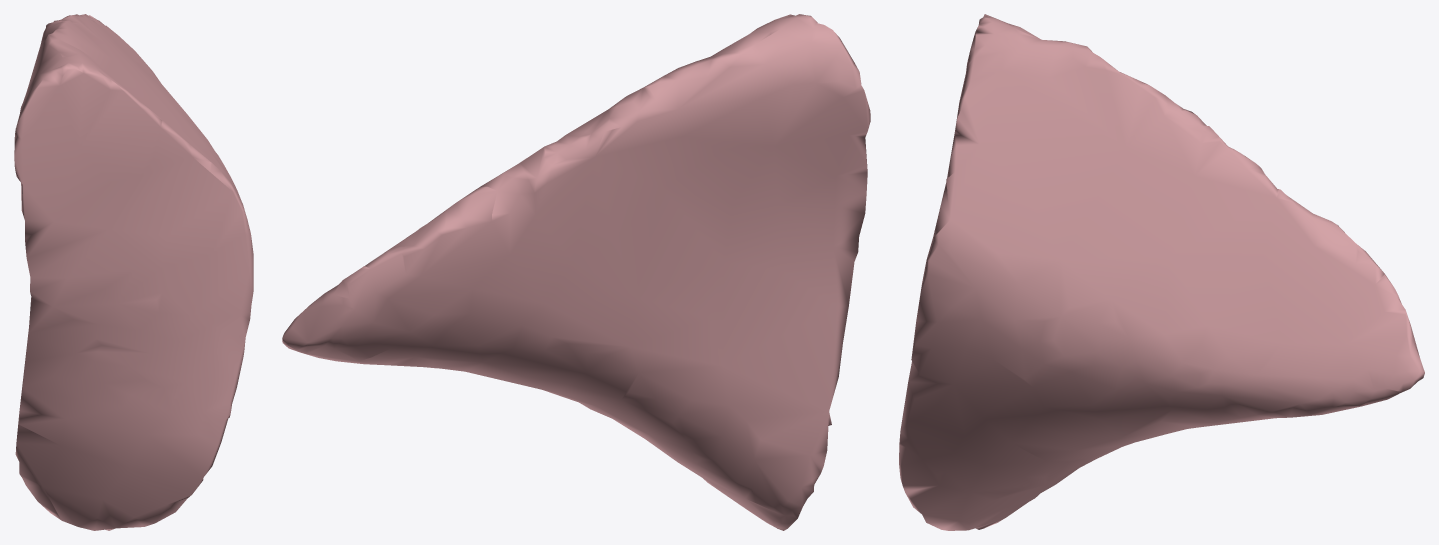
The model's file is fma75766-l_mm1020.glb.
The picture shows the model from 3 angles, left to right: view 1: azimuth 30°, elevation 25°; view 2: azimuth 150°, elevation 25°; view 3: azimuth 270°, elevation 25°; orthographic projection. The views are drawn at different scales.
Parts seen in each view (by area): view 1: FMA75766-L_MM1020; view 2: FMA75766-L_MM1020; view 3: FMA75766-L_MM1020.
Part boxes in pixels (x1,y1,x2,y2): FMA75766-L_MM1020: [14, 14, 253, 530]; FMA75766-L_MM1020: [282, 14, 870, 530]; FMA75766-L_MM1020: [899, 14, 1424, 530].
Size of the model in its own units: 0.00106 by 0.00144 by 0.00139.
